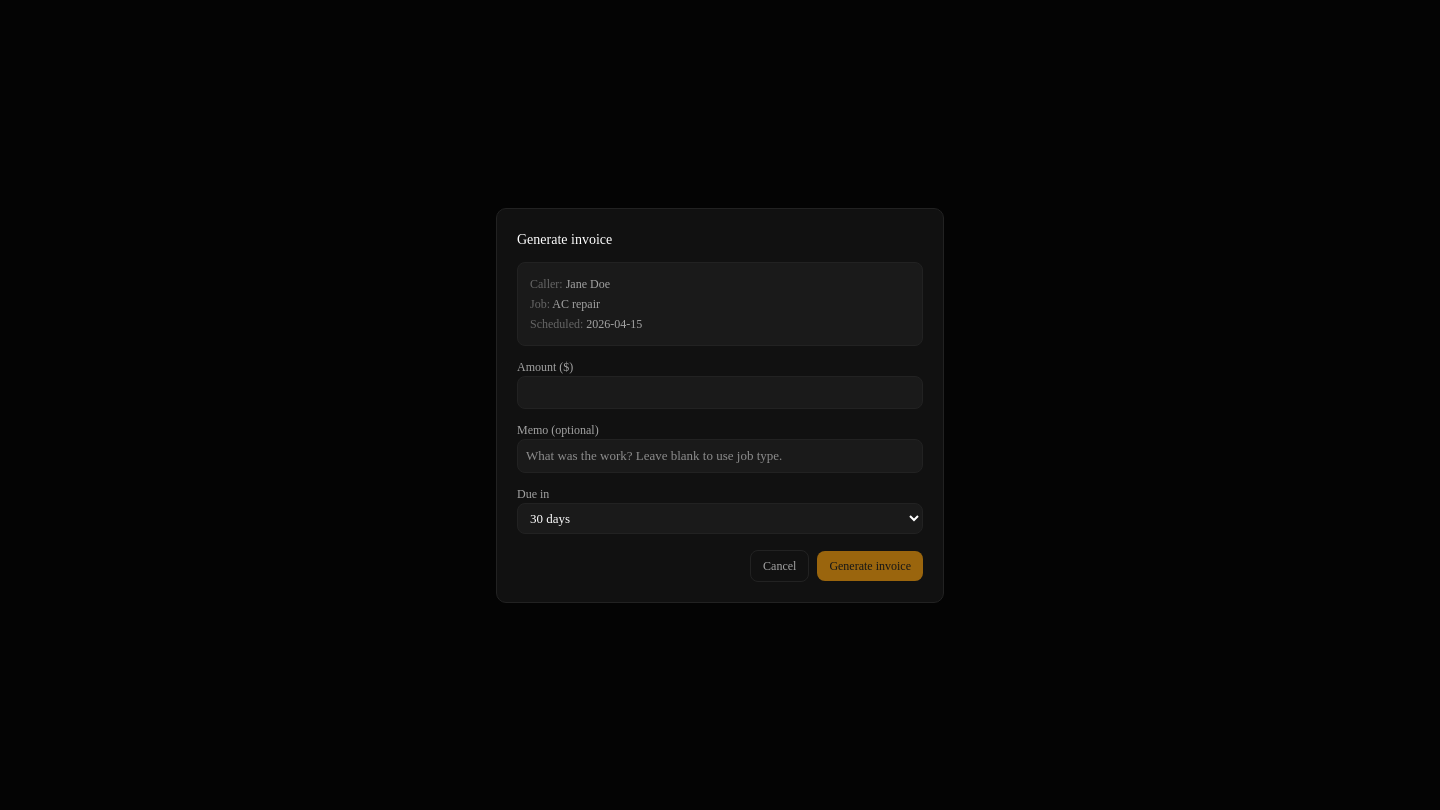
Test: InvoiceModal › disables submit until amount > 0 is entered
Expected: the button "Generate invoice" is disabled, left=817, top=550, right=923, bottom=580
Type "450" into the number field labelled "Amount ($)" at (720, 392), box left=517, top=376, right=923, bottom=409
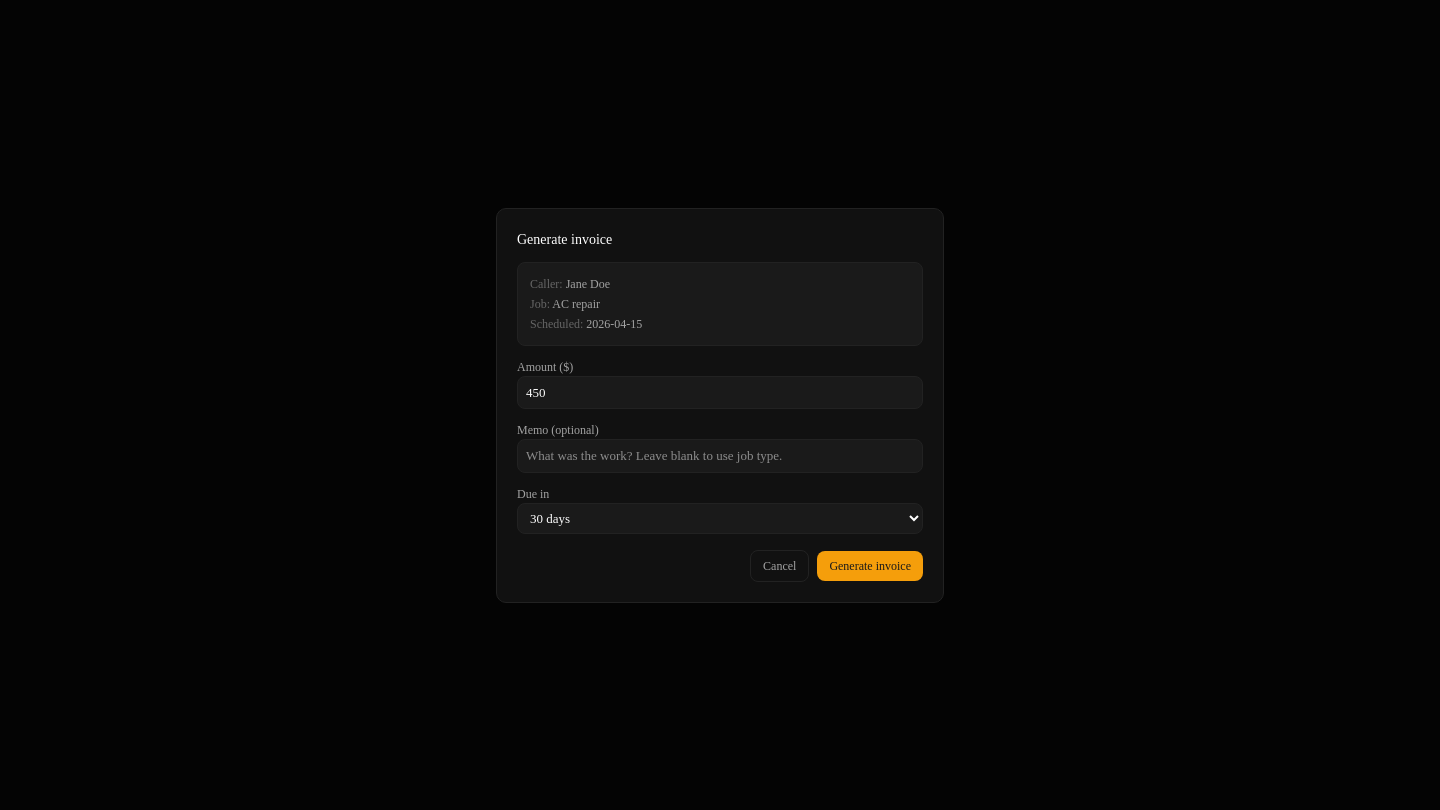
Expected: the button "Generate invoice" is enabled, left=817, top=550, right=923, bottom=580
